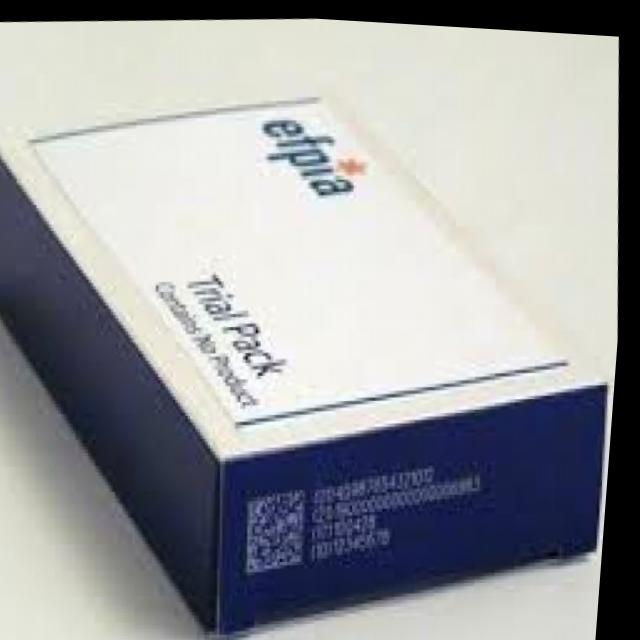datamatrix: (243, 476, 325, 579)
